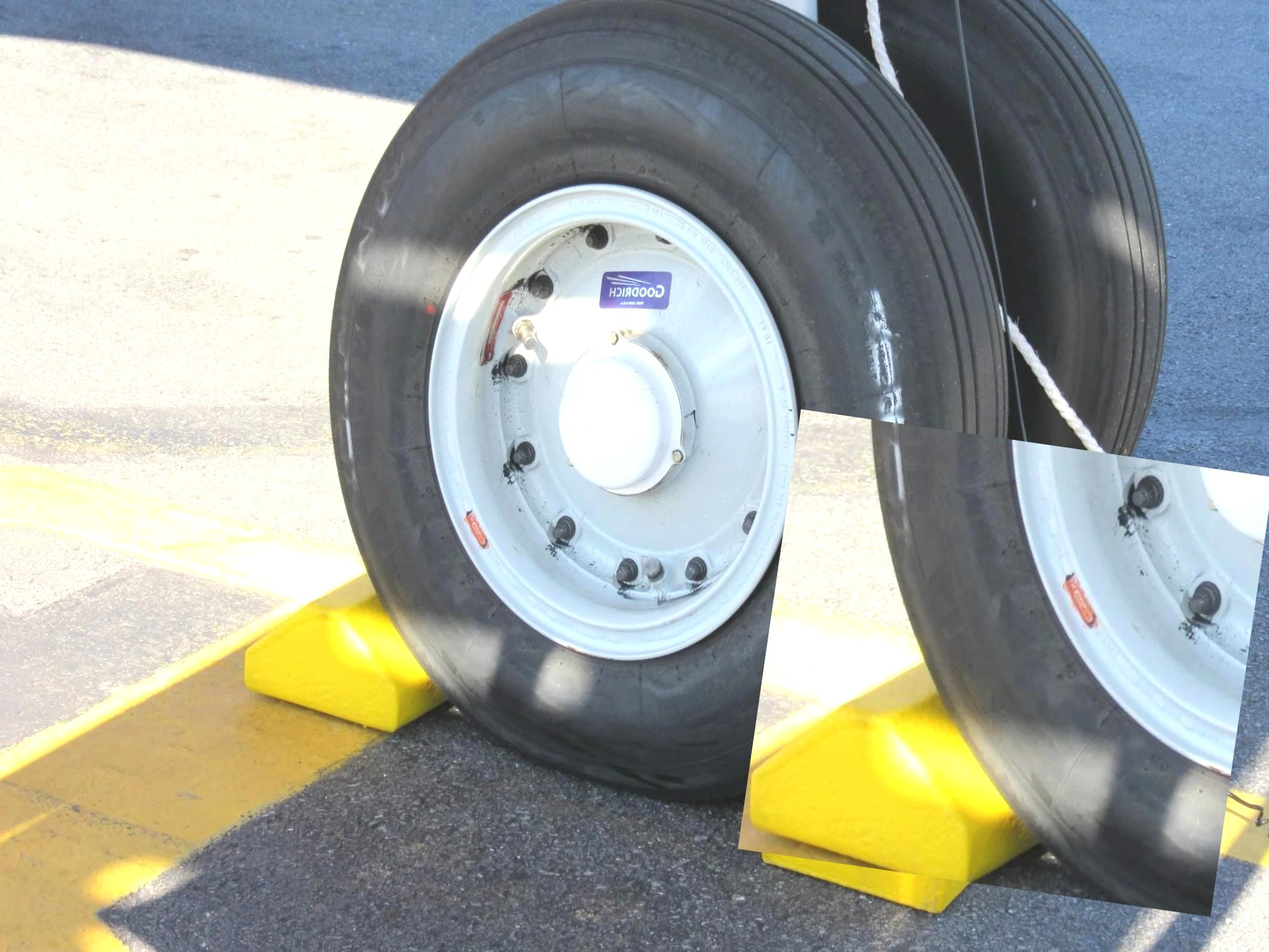chock: (738, 409, 1269, 917), (751, 473, 1214, 945), (236, 395, 612, 752)
wheel: (271, 0, 1059, 827), (741, 0, 1212, 602)
